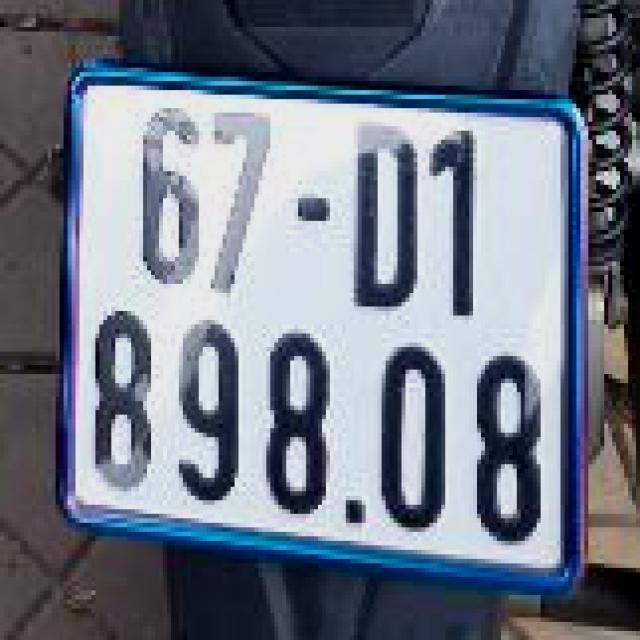0: (366, 333, 457, 541)
1: (425, 115, 485, 331)
6: (135, 99, 199, 289)
7: (205, 102, 276, 304)
8: (469, 336, 549, 548), (258, 333, 338, 528), (89, 300, 161, 493)
9: (175, 309, 250, 507)
D: (330, 106, 421, 318)
